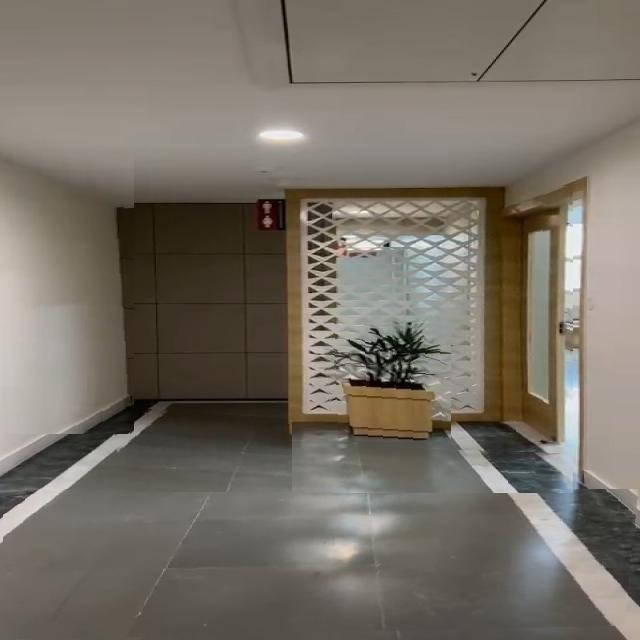door: (502, 184, 573, 442)
floor: (3, 489, 640, 640), (112, 407, 292, 492), (305, 444, 573, 493)
furniture: (326, 319, 451, 442)
wall: (0, 150, 134, 434), (587, 136, 640, 470)
